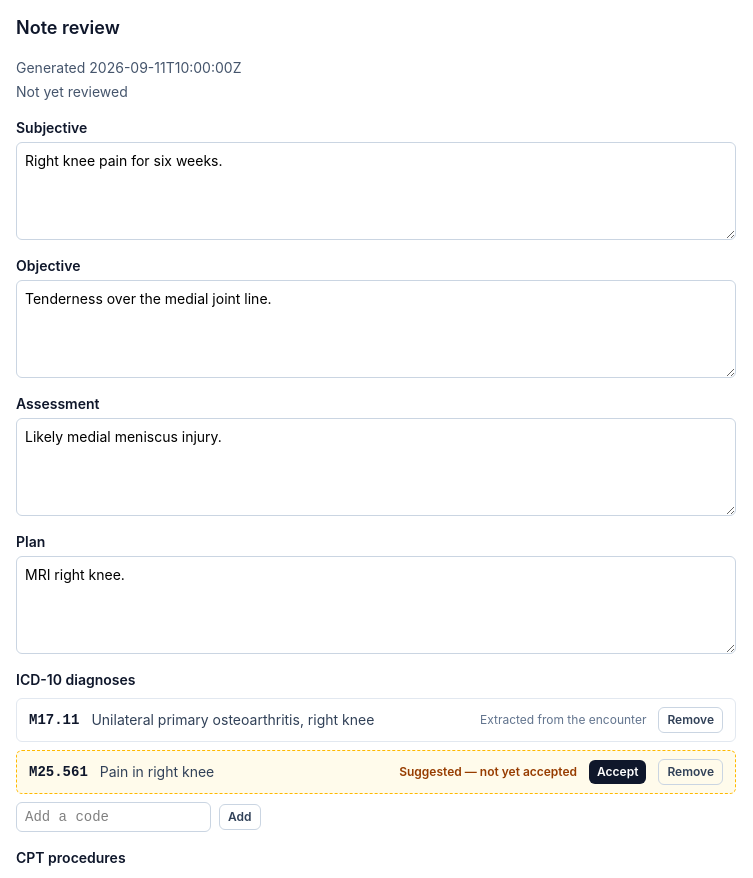
Test: attesting to a note › will not attest while edits are unsaved, and says why
Replace the text in the text box with test id "section-soapPlan" with "x" at (376, 605), box [16,556,736,654]
(page scrolled)
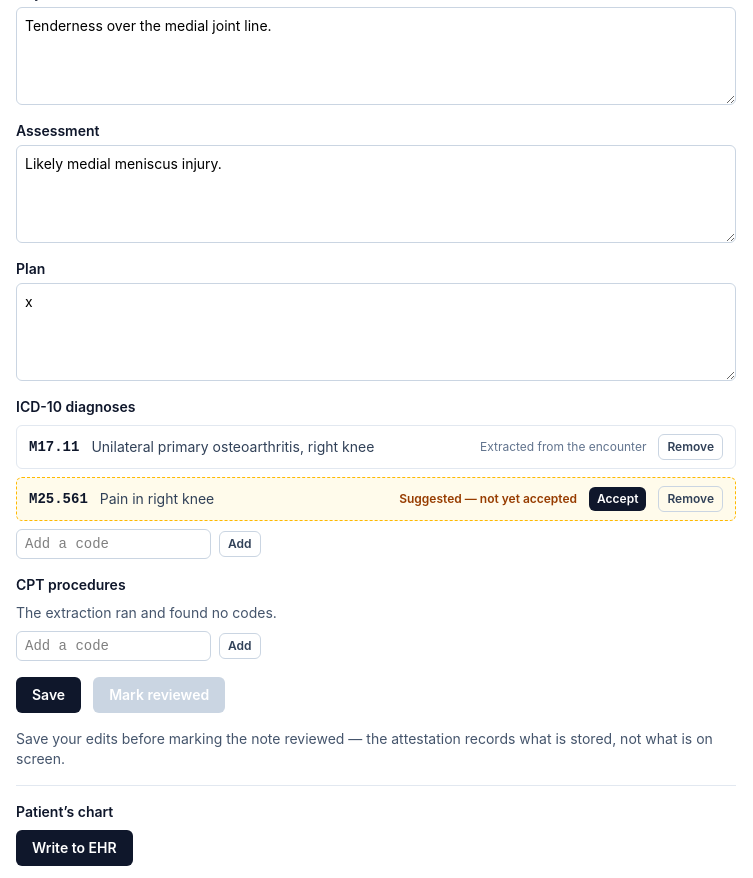
Check: the button with test id "mark-reviewed" is disabled, box [93,677,225,713]
Check: the text with test id "review-blocked" is shown, box [16,729,736,769]
